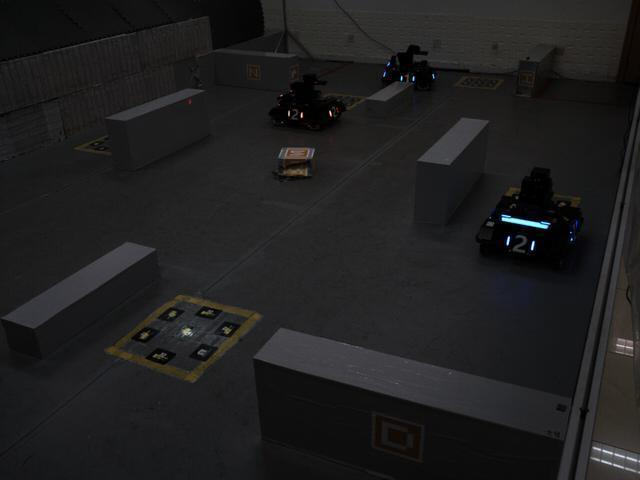armor: (502, 231, 539, 260), (284, 106, 305, 123), (397, 70, 418, 87), (326, 104, 343, 121)
